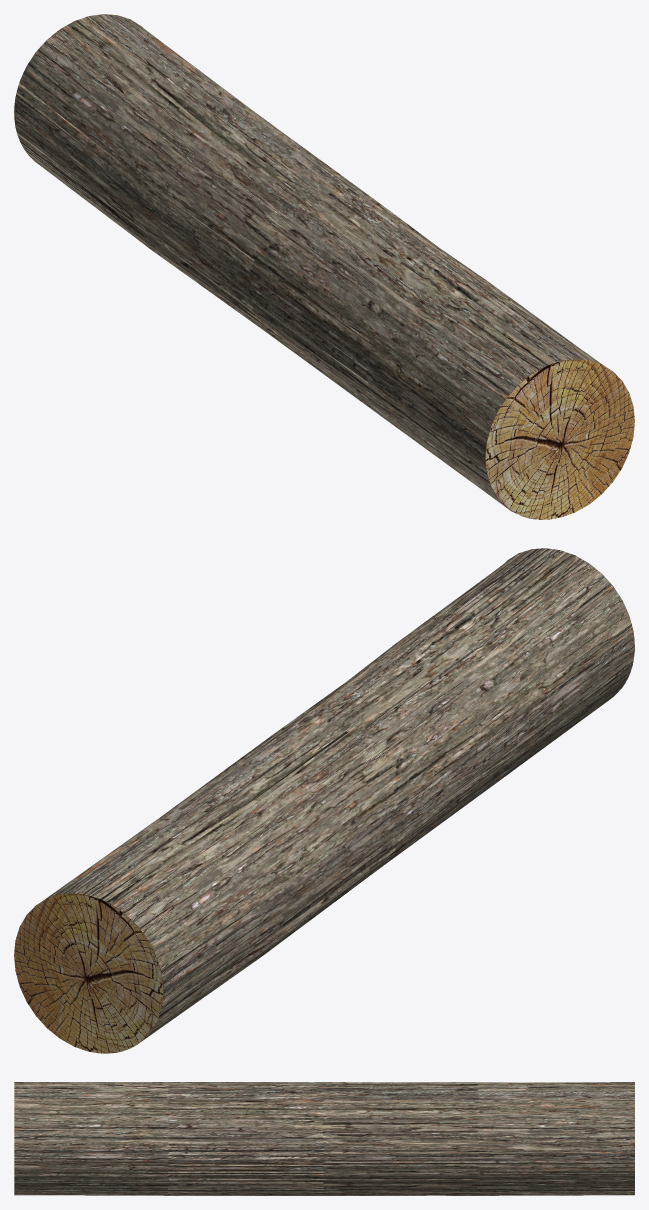
The model's file is Timber.fbx.
3 renders of one model, top to bottom at view 1: azimuth 30°, elevation 25°; view 2: azimuth 150°, elevation 25°; view 3: azimuth 270°, elevation 25°, orthographic. The views are drawn at different scales.
Visible parts, largest first — view 1: Cylinder.001, Circle; view 2: Cylinder.001, Circle.001; view 3: Cylinder.001.
Part boxes in pixels (x1,y1,x2,y2): Cylinder.001: (14, 14, 603, 519); Circle: (485, 359, 634, 519); Cylinder.001: (42, 548, 634, 1053); Circle.001: (14, 893, 163, 1053); Cylinder.001: (14, 1082, 634, 1195).
Bounding box in the file's own units: 2.04 × 2.02 × 10.95.
2 materials, 2 textured.
